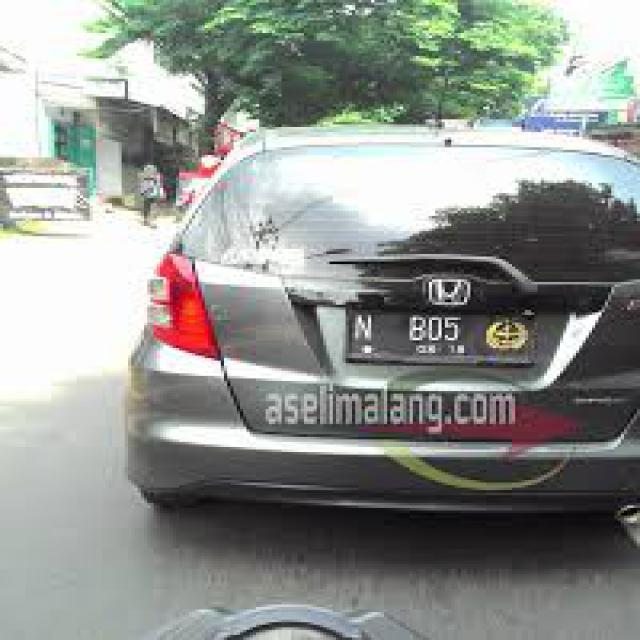clone-license-plate: (351, 301, 536, 367)
